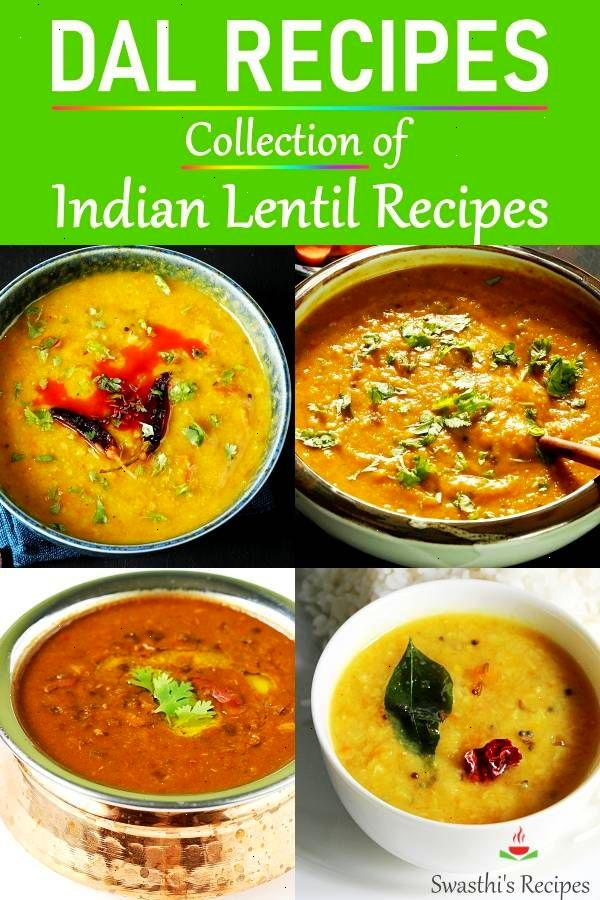daal: (2, 269, 281, 556), (307, 274, 590, 509), (332, 632, 591, 818)
